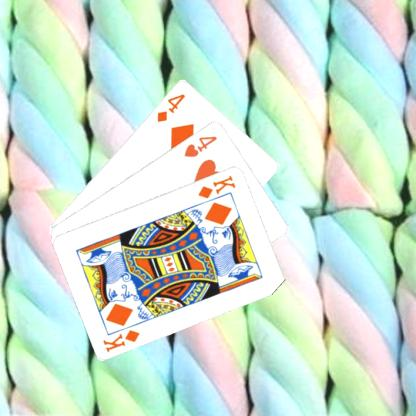4D: (154, 90, 187, 124)
4H: (182, 132, 218, 158)
KD: (195, 172, 237, 200), (101, 326, 142, 353)
